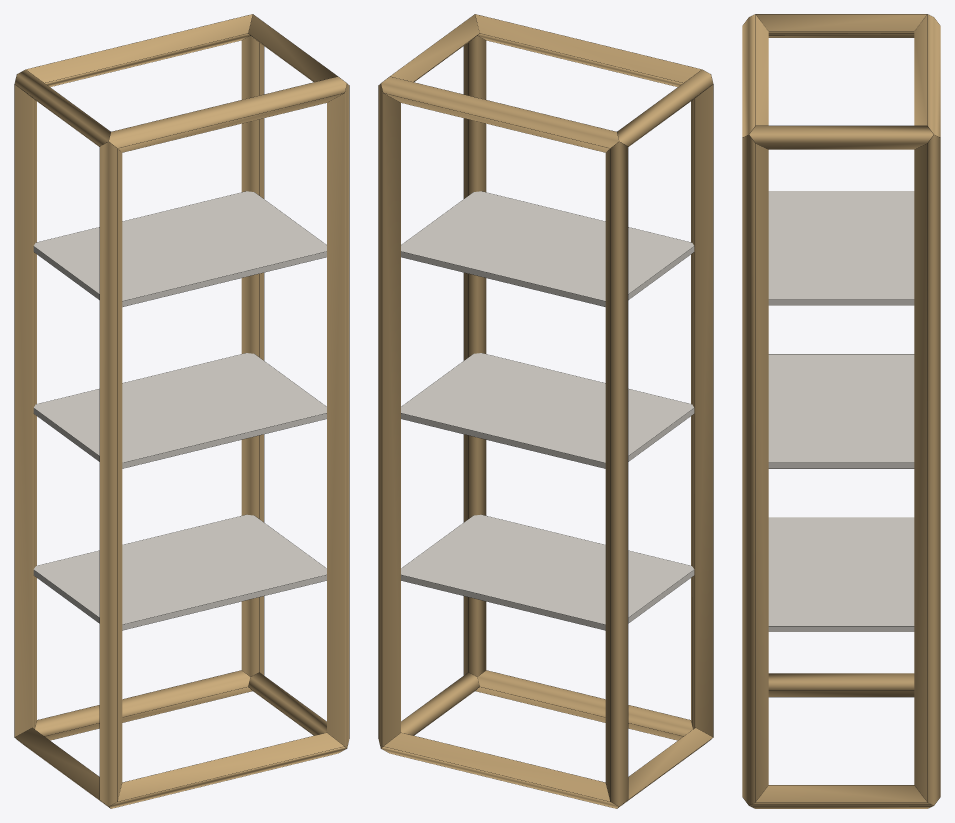
File: etagere-grande.glb
3 renders of one model, left to right at view 1: azimuth 30°, elevation 25°; view 2: azimuth 150°, elevation 25°; view 3: azimuth 270°, elevation 25°, orthographic.
Parts seen in each view (by area): view 1: mod-shelf-0, mod-shelf-1, mod-shelf-2, arete-Z0, arete-Z1, arete-Z2, arete-Z3, arete-X2, arete-X0, arete-X3, arete-X1, arete-Y2 (+7 smaller); view 2: mod-shelf-0, mod-shelf-1, mod-shelf-2, arete-Z2, arete-Z3, arete-Z0, arete-Z1, arete-X3, arete-X1, arete-X2, arete-X0, arete-Y2 (+7 smaller); view 3: arete-Z1, arete-Z3, mod-shelf-0, mod-shelf-1, mod-shelf-2, arete-Y3, arete-Y1, arete-Y2, arete-Y0, arete-X2, arete-X3, arete-wire-Z1 (+3 smaller).
Boxes of the visible parts, box(x1,y1,x2,y2) form: mod-shelf-0: box(33, 514, 326, 630); mod-shelf-1: box(33, 353, 326, 468); mod-shelf-2: box(33, 191, 326, 306); arete-Z0: box(100, 141, 122, 806); arete-Z1: box(327, 84, 349, 747); arete-Z2: box(14, 84, 36, 736); arete-Z3: box(241, 36, 263, 676); arete-X2: box(109, 76, 346, 152); arete-X0: box(109, 733, 346, 808); arete-X3: box(26, 14, 252, 86); arete-X1: box(35, 670, 251, 740); arete-Y2: box(14, 69, 110, 146); mod-shelf-0: box(401, 514, 694, 630); mod-shelf-1: box(401, 353, 694, 468); mod-shelf-2: box(401, 191, 694, 306); arete-Z2: box(605, 141, 627, 806); arete-Z3: box(378, 84, 400, 747); arete-Z0: box(691, 84, 713, 736); arete-Z1: box(464, 36, 486, 676); arete-X3: box(381, 76, 618, 152); arete-X1: box(381, 733, 618, 808); arete-X2: box(475, 14, 701, 86); arete-X0: box(476, 670, 692, 740); arete-Y2: box(617, 69, 713, 146); arete-Z1: box(742, 135, 768, 805); arete-Z3: box(914, 135, 940, 805); mod-shelf-0: box(768, 517, 914, 631); mod-shelf-1: box(768, 354, 914, 468); mod-shelf-2: box(768, 191, 914, 305); arete-Y3: box(749, 126, 933, 149); arete-Y1: box(749, 785, 933, 808); arete-Y2: box(756, 14, 926, 37); arete-Y0: box(768, 673, 914, 696); arete-X2: box(742, 14, 768, 137); arete-X3: box(914, 14, 940, 137); arete-wire-Z1: box(749, 135, 766, 802).
Size of the model in its own units: 0.6288 by 1.63 by 0.4288.
